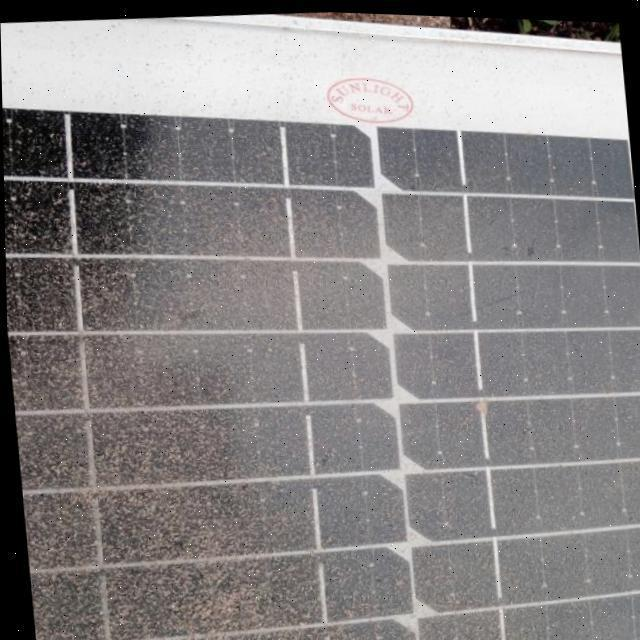Anomaly Solar Panel: (2, 112, 640, 640)
Surface Contaminant: (2, 105, 640, 640)
